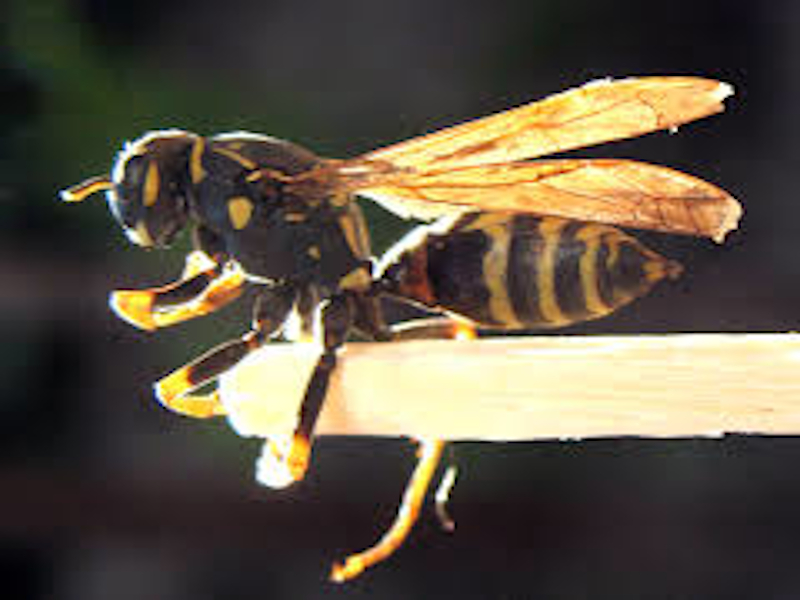chax: (85, 50, 753, 537)
